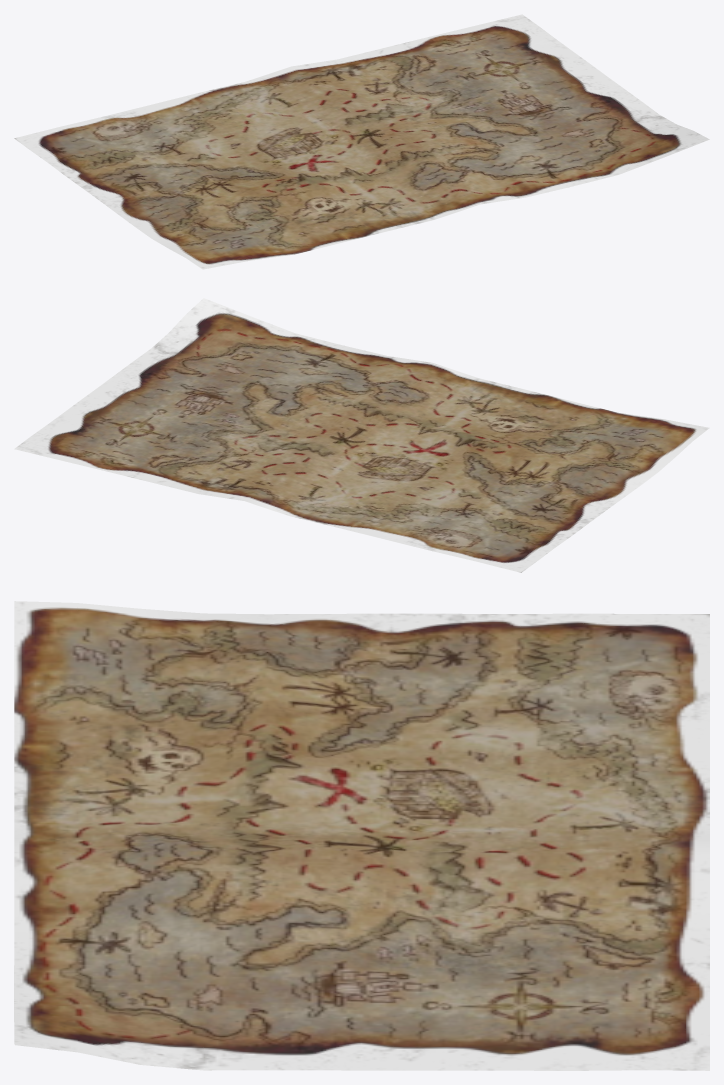
File: Map_01.fbx
The picture shows the model from 3 angles, top to bottom: view 1: azimuth 30°, elevation 25°; view 2: azimuth 150°, elevation 25°; view 3: azimuth 270°, elevation 25°; orthographic projection. The views are drawn at different scales.
Parts seen in each view (by area): view 1: Map; view 2: Map; view 3: Map.
Boxes of the visible parts, bbox=[...] form: Map: bbox=[14, 14, 709, 269]; Map: bbox=[14, 298, 709, 572]; Map: bbox=[14, 601, 709, 1070].
Bounding box in the file's own units: 62.04 × 1.59 × 39.96.
Materials: 1 (1 with a texture image).
